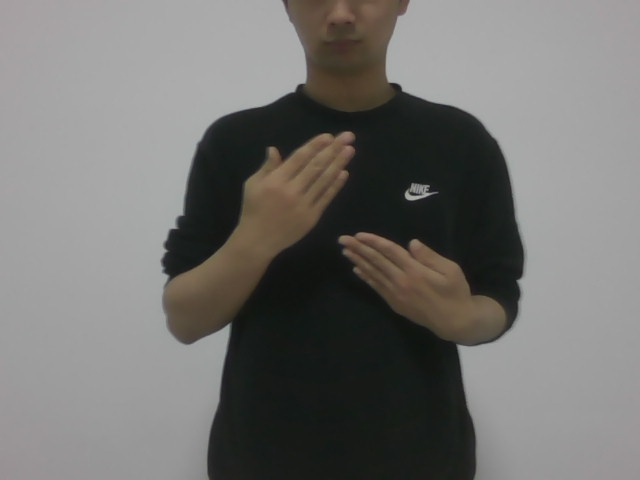tea: (229, 129, 469, 335)
